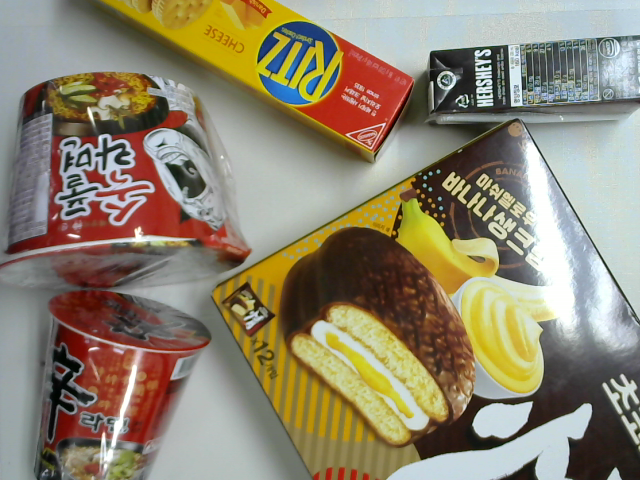Choco_Pie_Banana: (210, 117, 640, 480)
Hejangpul: (1, 68, 252, 292)
Hush_Choco_Drink: (425, 33, 640, 126)
Ritz_Sand_Cracker: (77, 1, 416, 164)
Sinramen_small: (32, 289, 215, 480)
